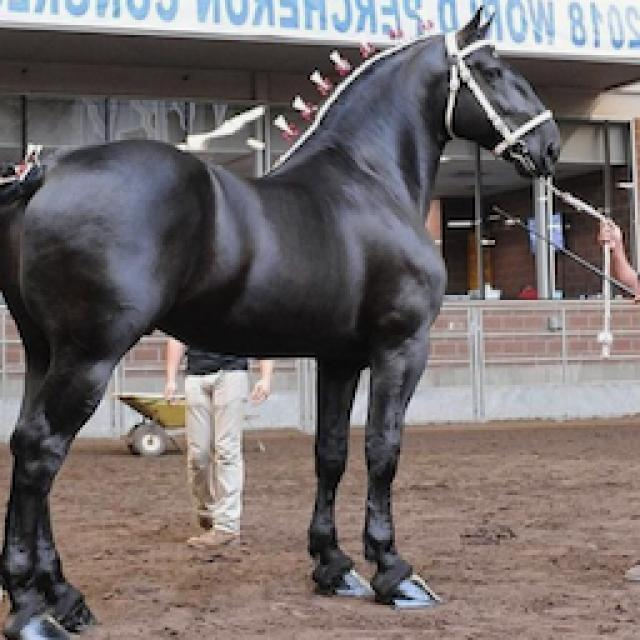Horse: (2, 2, 568, 638)
